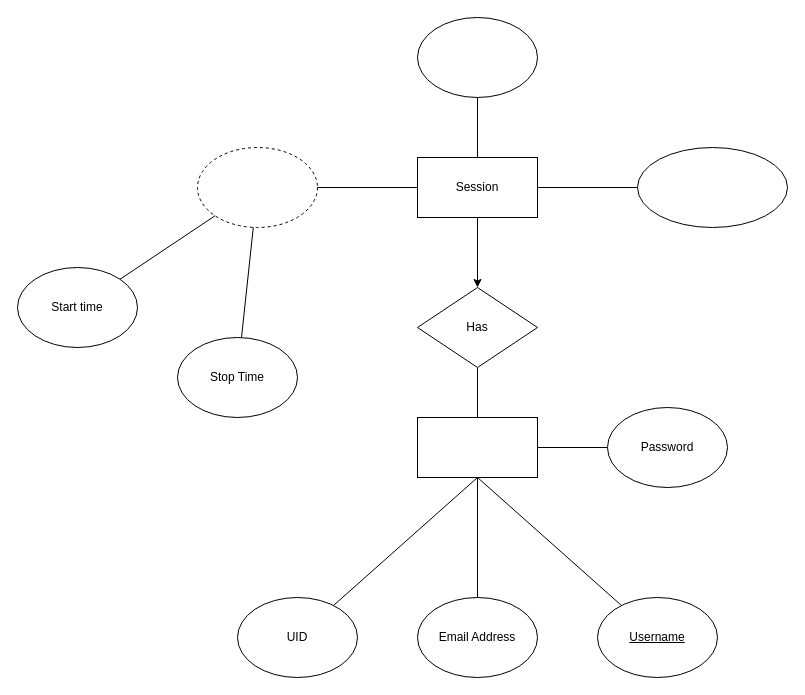
Image size: 805x695. Some labels were removed from this diagram. Here are the shapes that lost their labels. From the top down, the box of each, then its label:
(416, 16, 538, 98): Time
(196, 146, 318, 228): Duration
(636, 146, 788, 228): Date
(416, 416, 538, 478): User Account
